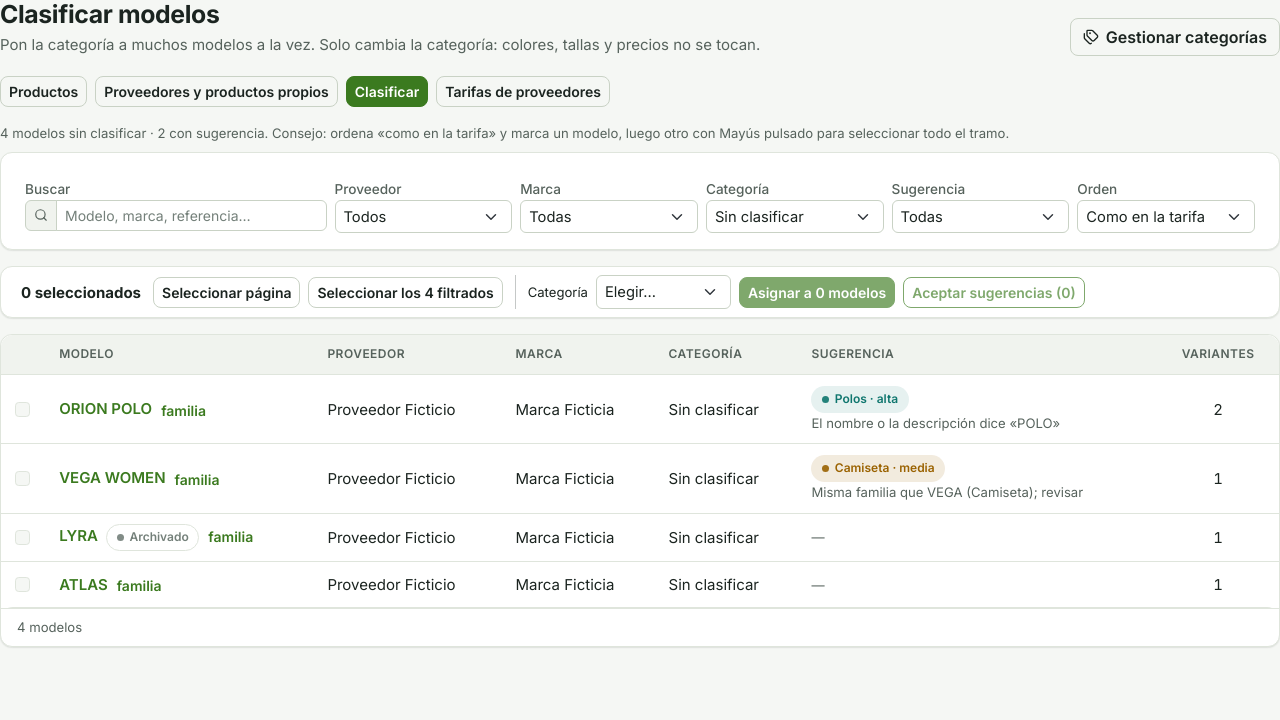
clasificar modelos › muestra los sin clasificar con sugerencias motivadas y acepta solo las elegidas, con vista previa y deshacer
The image size is (1280, 720).
Expected: the link "ORION POLO" is shown, [59,399,152,418]
Click the checkbox named "Seleccionar ORION POLO".
click(23, 409)  # box [15,402,30,416]
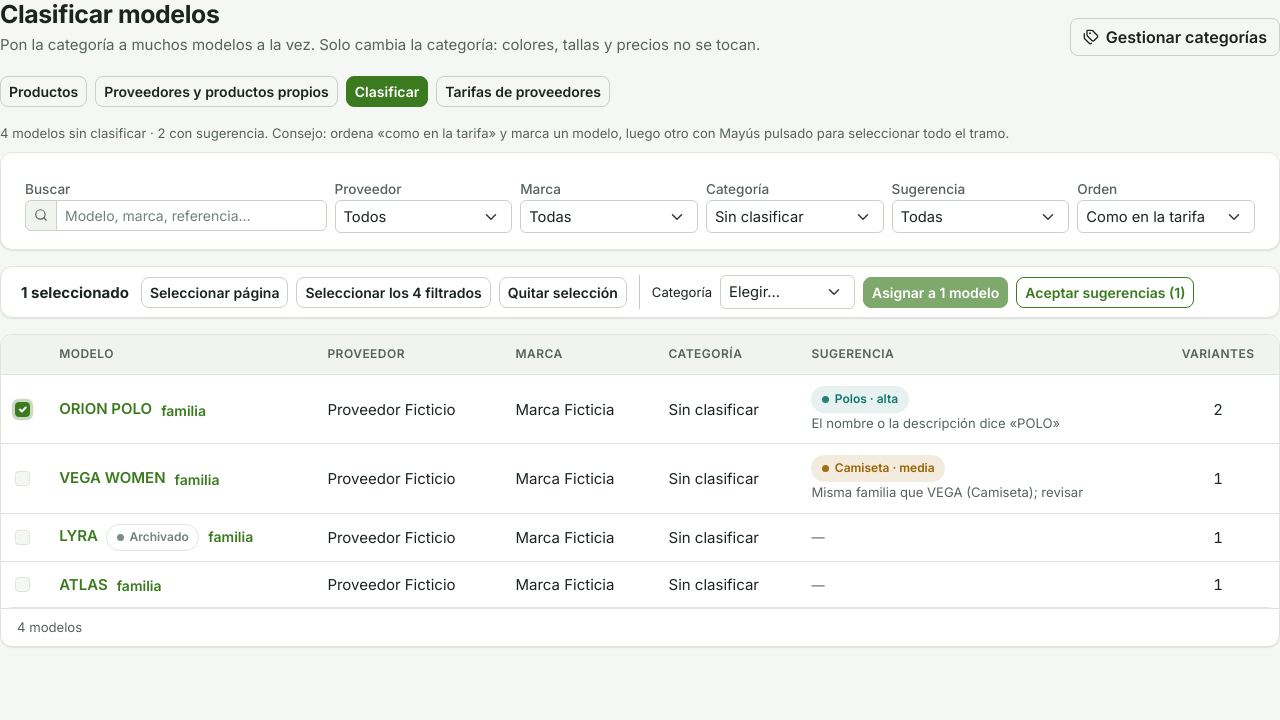
Click the checkbox named "Seleccionar VEGA WOMEN".
click(23, 478)  # box [15,471,30,486]
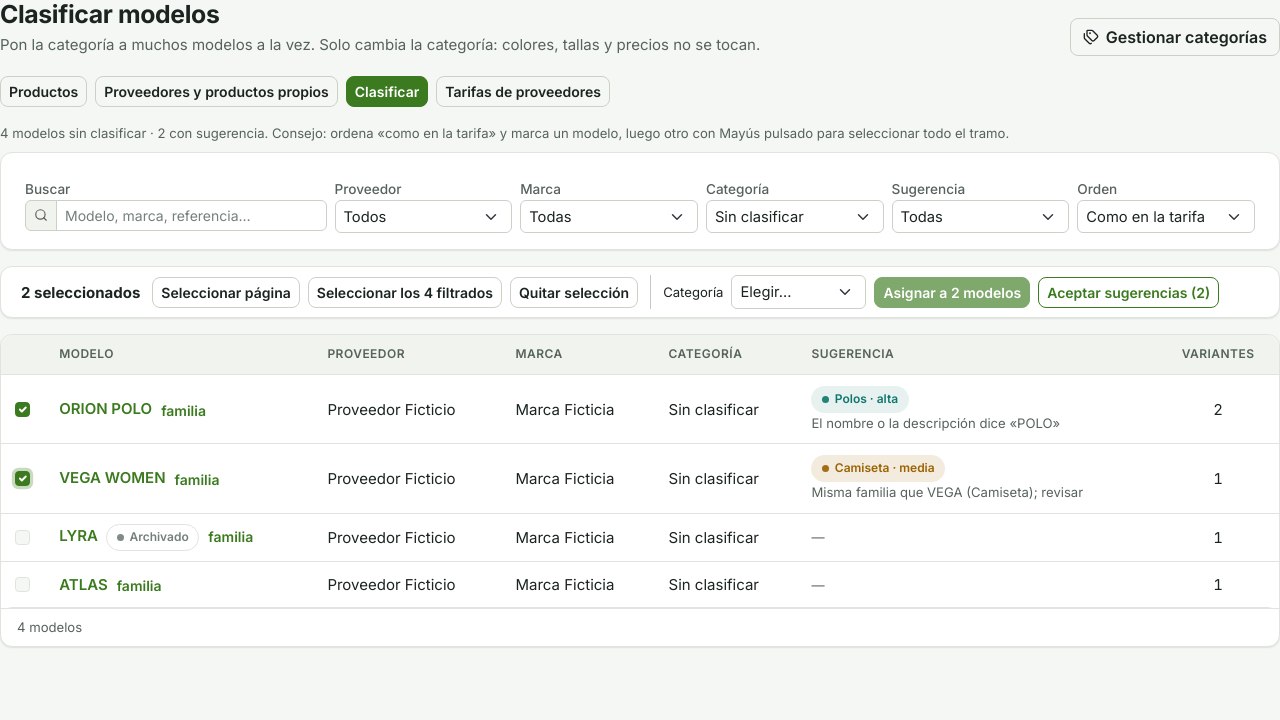
Click the button "Aceptar sugerencias (2)".
click(1129, 292)  # box [1038,277,1219,308]
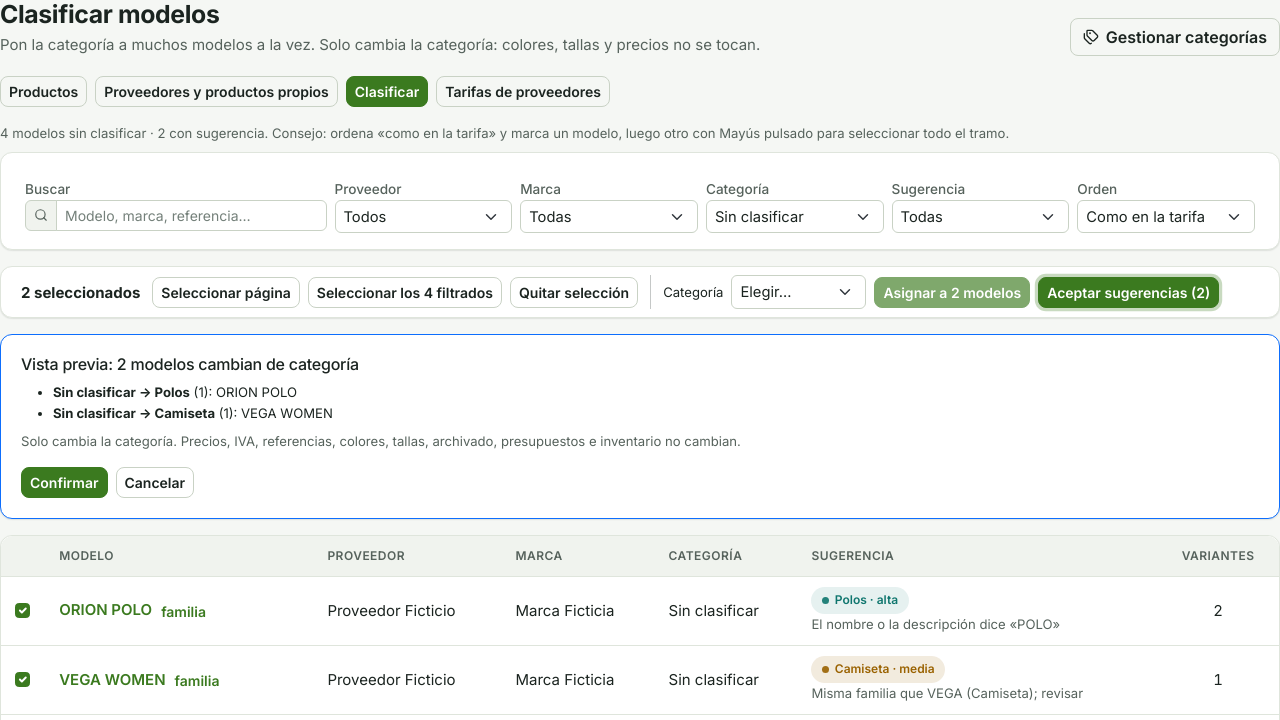
Expected: the element "Vista previa: 2 modelos cambian" shows "Sin clasificar → Polos (1): ORION POLO", [0,334,1279,519]
Expected: the element "Vista previa: 2 modelos cambian" shows "Sin clasificar → Camiseta (1): VEGA WOMEN", [0,334,1279,519]
Click the button "Confirmar".
click(64, 483)  # box [21,467,108,498]
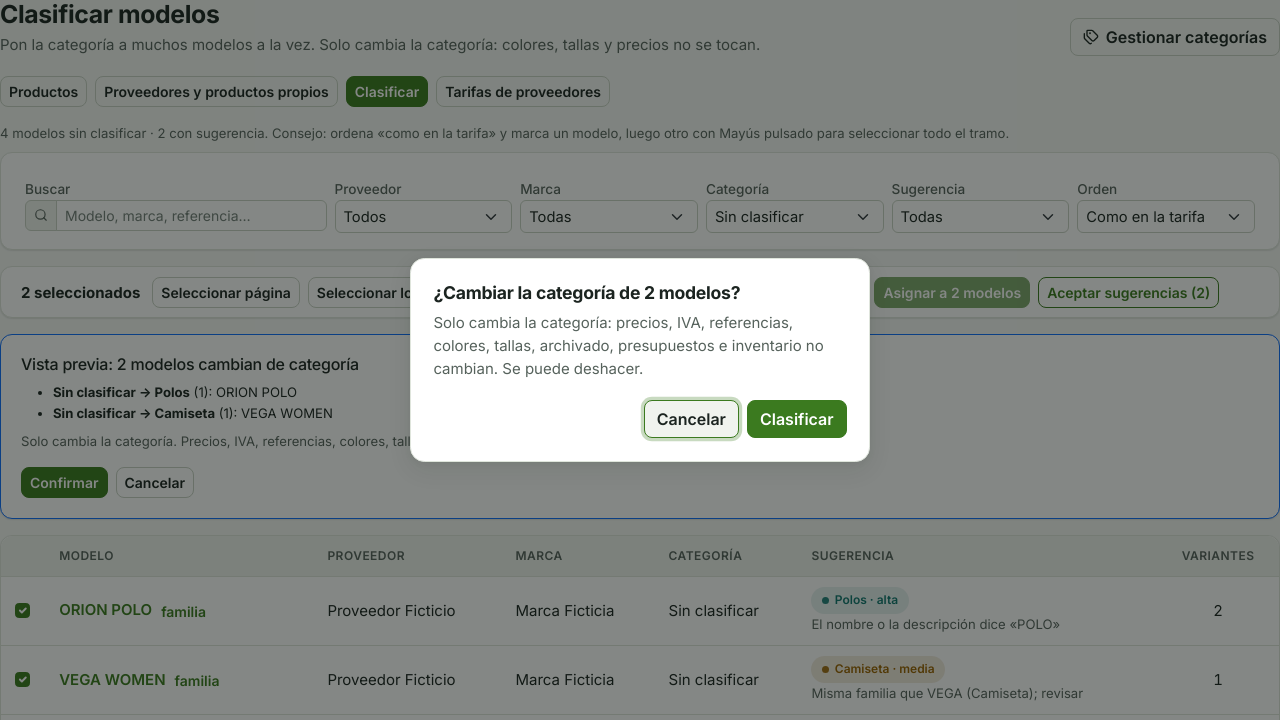
Click the button "Clasificar".
click(797, 419)  # box [747,400,847,438]
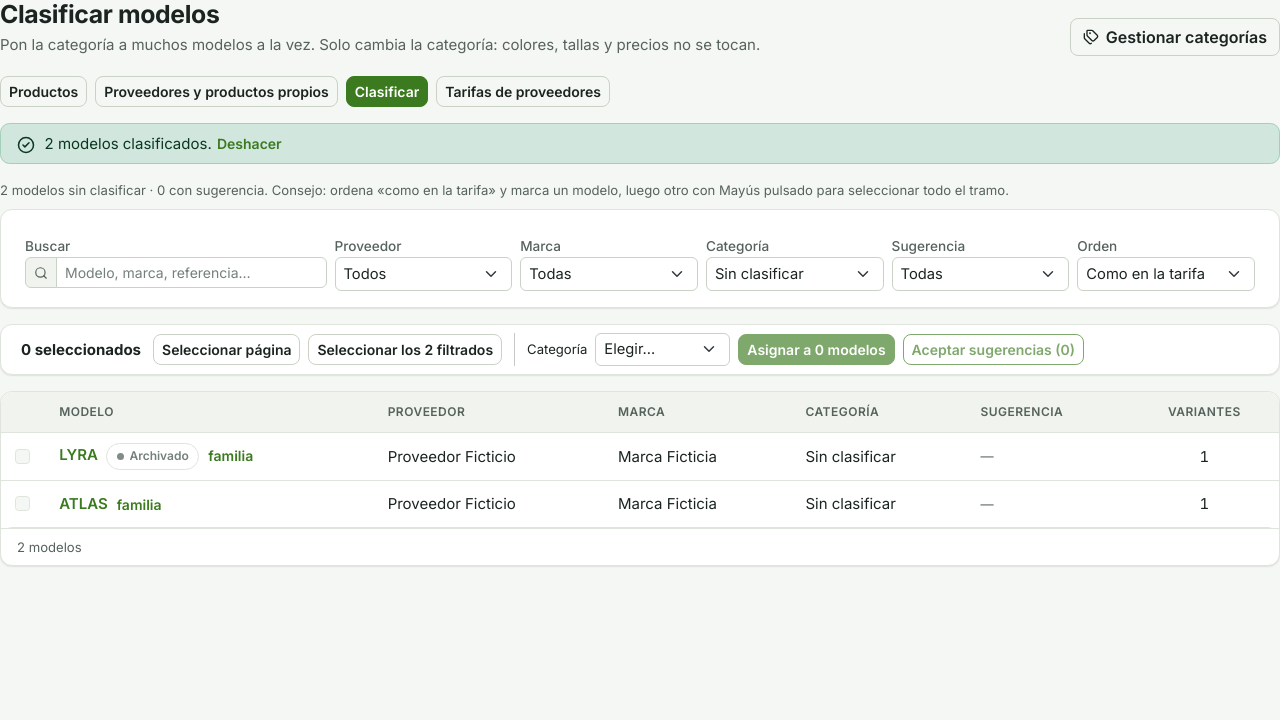
Expected: the text "2 modelos clasificados. Deshacer" is shown, [45,132,283,155]
Click the button "Deshacer".
click(249, 144)  # box [216,132,283,155]
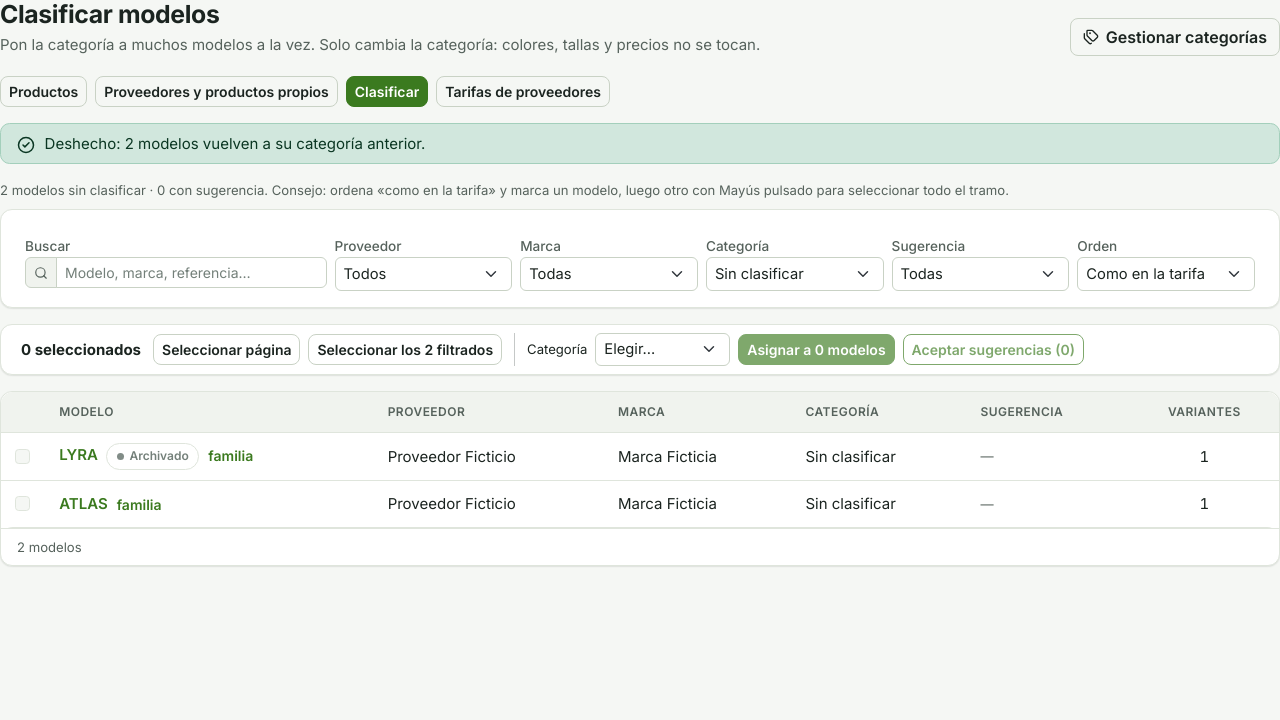
Expected: the text "Deshecho: 2 modelos vuelven a su categoría anterior." is shown, [45,134,425,153]
